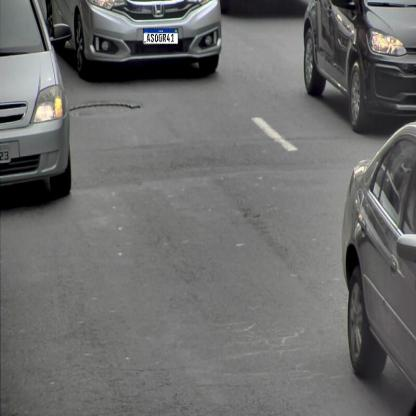PlacaM: (143, 28, 178, 44)
